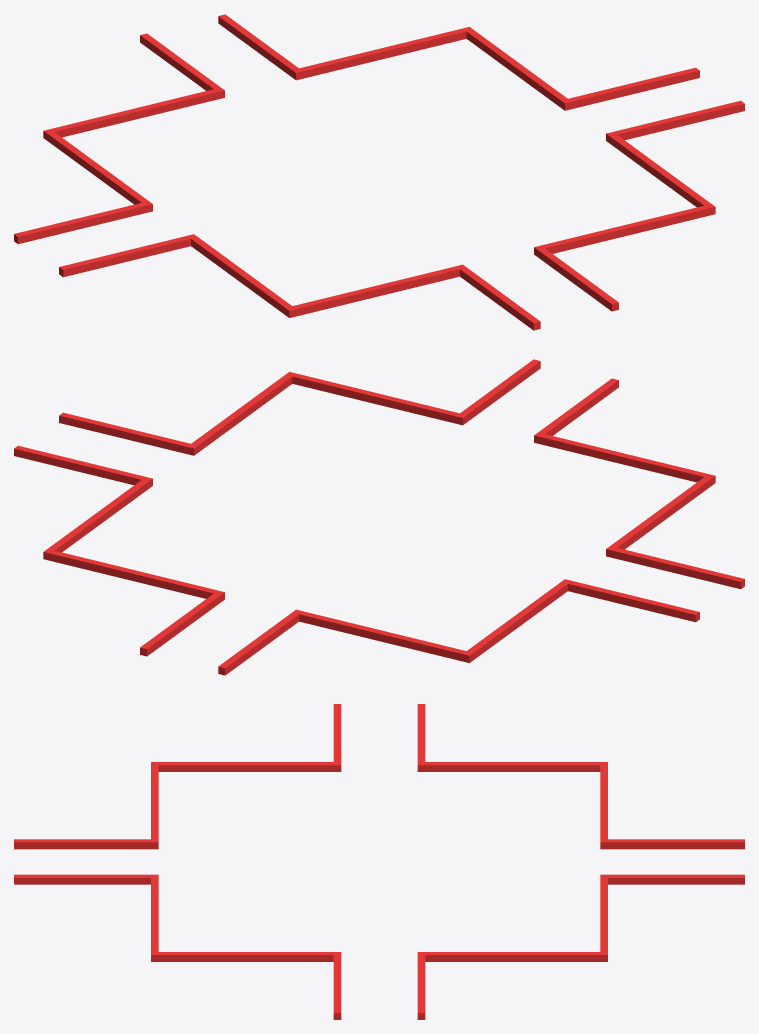
File: Field_Bump.fbx
3 renders of one model, top to bottom at view 1: azimuth 30°, elevation 25°; view 2: azimuth 150°, elevation 25°; view 3: azimuth 270°, elevation 25°, orthographic. The views are drawn at different scales.
Visible parts, largest first — view 1: Box181; view 2: Box181; view 3: Box181.
Boxes of the visible parts, x1,y1,x2,y2 form: Box181: [14, 14, 744, 330]; Box181: [14, 359, 744, 675]; Box181: [14, 704, 744, 1019].
Size of the model in its own units: 873 by 9 by 873.
